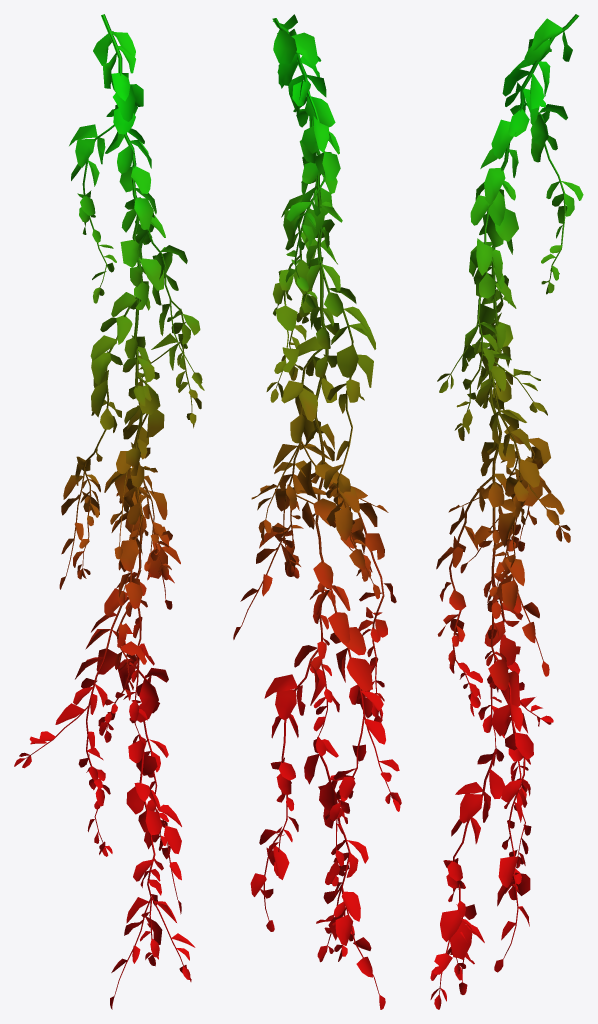
The model's file is Var7_LOD2.fbx.
3 renders of one model, left to right at view 1: azimuth 30°, elevation 25°; view 2: azimuth 150°, elevation 25°; view 3: azimuth 270°, elevation 25°, orthographic. The views are drawn at different scales.
Parts seen in each view (by area): view 1: _vm4f_Var7_LOD2; view 2: _vm4f_Var7_LOD2; view 3: _vm4f_Var7_LOD2.
Boxes of the visible parts, x1,y1,x2,y2 form: _vm4f_Var7_LOD2: (14,14,204,1009); _vm4f_Var7_LOD2: (233,14,401,1009); _vm4f_Var7_LOD2: (430,14,583,1009).
Bounding box in the file's own units: 40.86 × 237 × 32.8.
